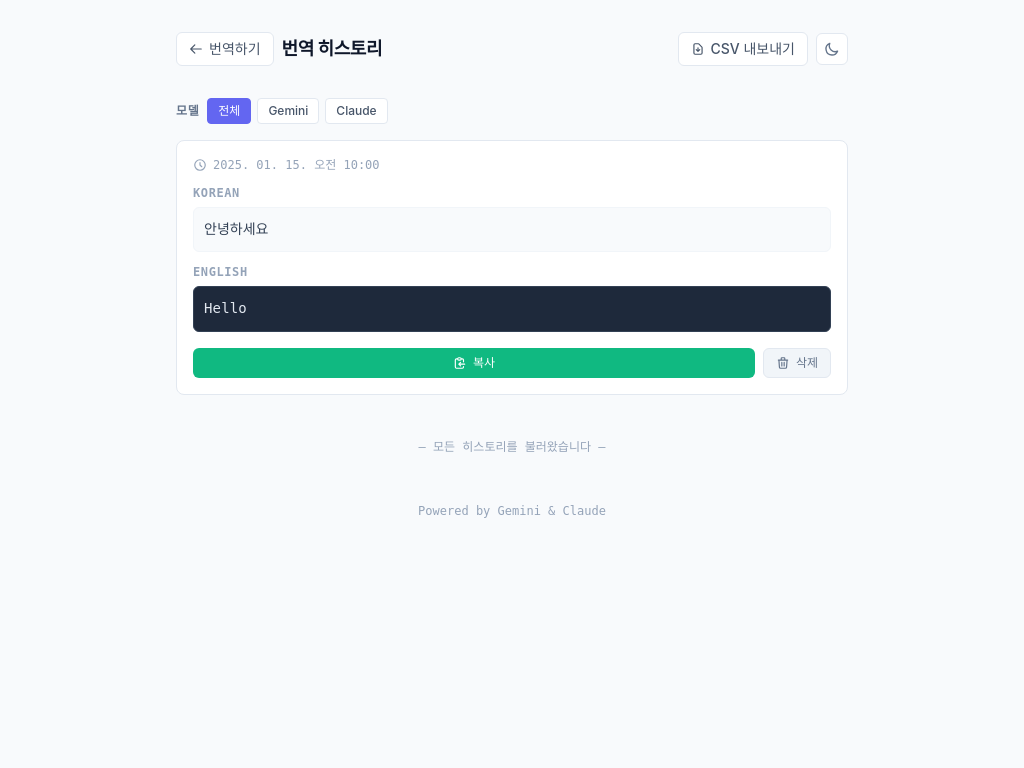
Test: History Page › shows confirm modal when delete button is clicked
The width and height of the screenshot is (1024, 768).
Click the button "삭제" at (797, 362), box [763, 348, 831, 378]
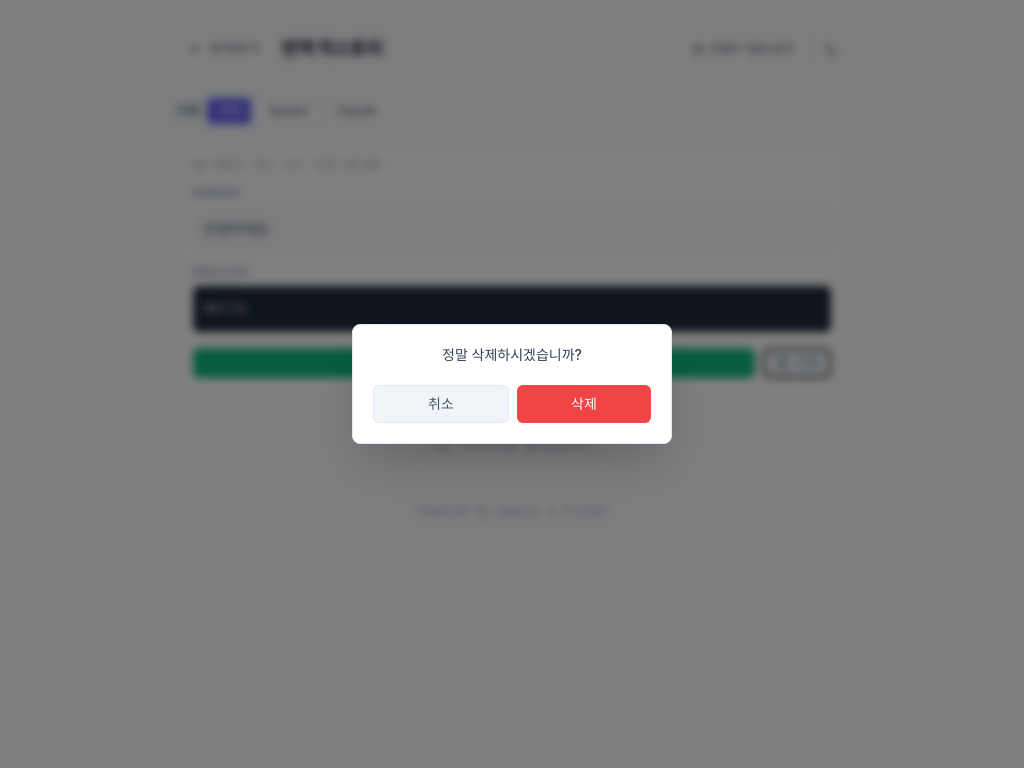
Now the text "정말 삭제하시겠습니까?" is shown, box [442, 346, 582, 363]
